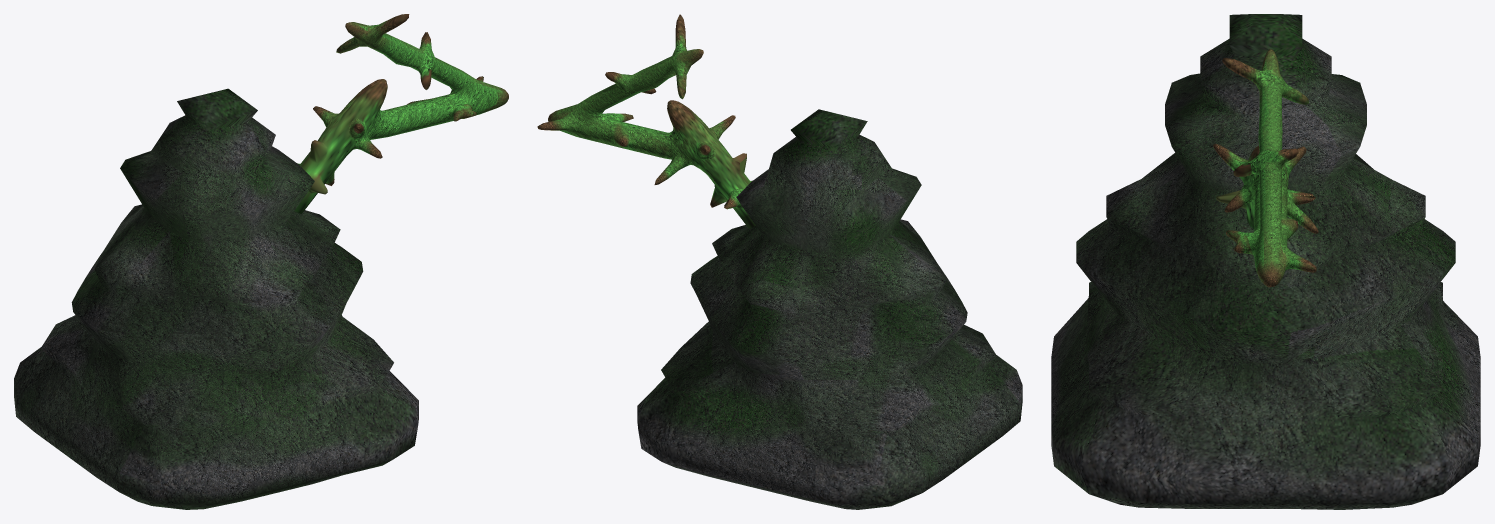
File: Waypoints.fbx
The picture shows the model from 3 angles, left to right: view 1: azimuth 30°, elevation 25°; view 2: azimuth 150°, elevation 25°; view 3: azimuth 270°, elevation 25°; orthographic projection. The views are drawn at different scales.
Parts seen in each view (by area): view 1: Varde, ArrowCoral; view 2: Varde, ArrowCoral; view 3: Varde, ArrowCoral.
Boxes of the visible parts, x1=… form: Varde: x1=14, y1=88, x2=418, y2=509; ArrowCoral: x1=294, y1=14, x2=508, y2=213; Varde: x1=637, y1=109, x2=1022, y2=509; ArrowCoral: x1=537, y1=14, x2=755, y2=228; Varde: x1=1051, y1=14, x2=1480, y2=509; ArrowCoral: x1=1213, y1=49, x2=1318, y2=287.
Size of the model in its own units: 849 by 1068 by 1244.
